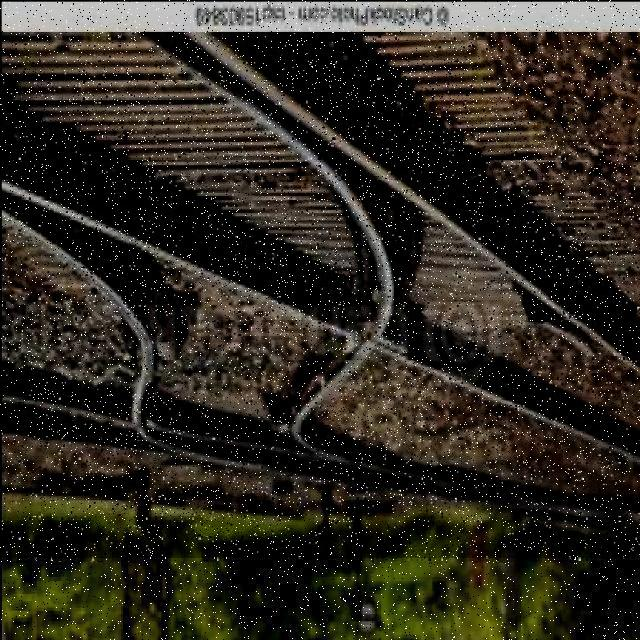rail: (1, 33, 640, 559)
